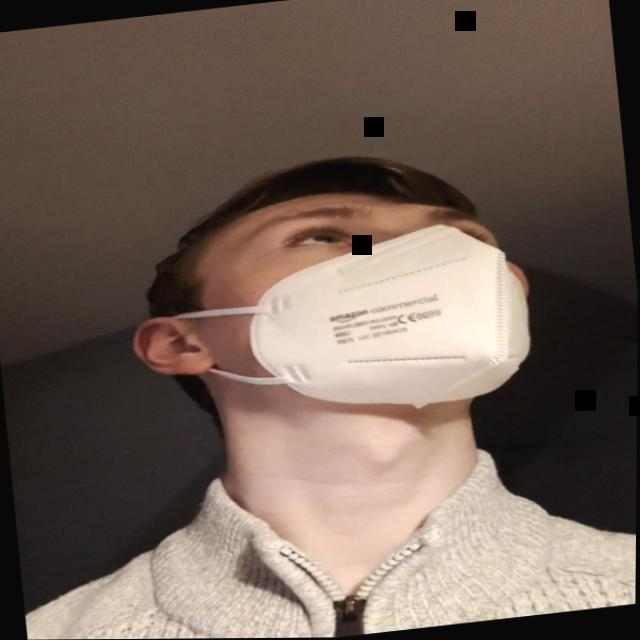Mask: (168, 170, 542, 433)
